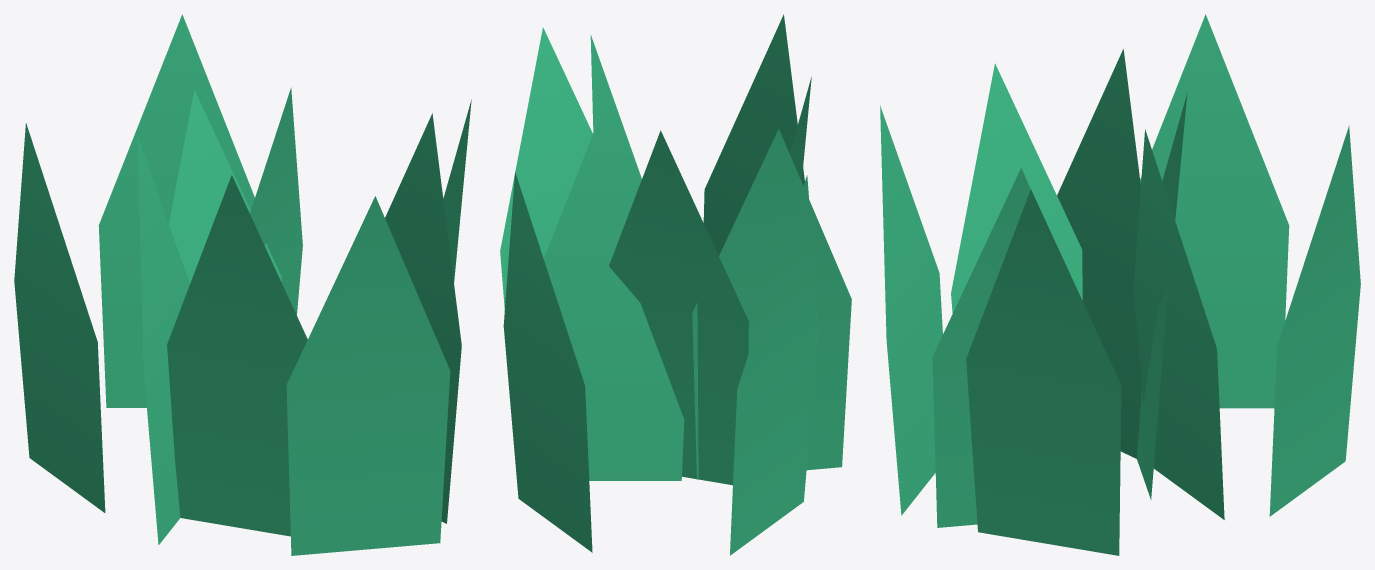
The model's file is Unmowed_High_050_2.glb.
The picture shows the model from 3 angles, left to right: view 1: azimuth 30°, elevation 25°; view 2: azimuth 150°, elevation 25°; view 3: azimuth 270°, elevation 25°; orthographic projection. The views are drawn at different scales.
Visible parts, largest first — view 1: Mowed Grass High LOD; view 2: Mowed Grass High LOD; view 3: Mowed Grass High LOD.
Boxes of the visible parts, x1,y1,x2,y2 form: Mowed Grass High LOD: [14, 14, 471, 555]; Mowed Grass High LOD: [500, 14, 851, 555]; Mowed Grass High LOD: [880, 14, 1360, 555].
Size of the model in its own units: 0.3814 by 0.38 by 0.4428.
